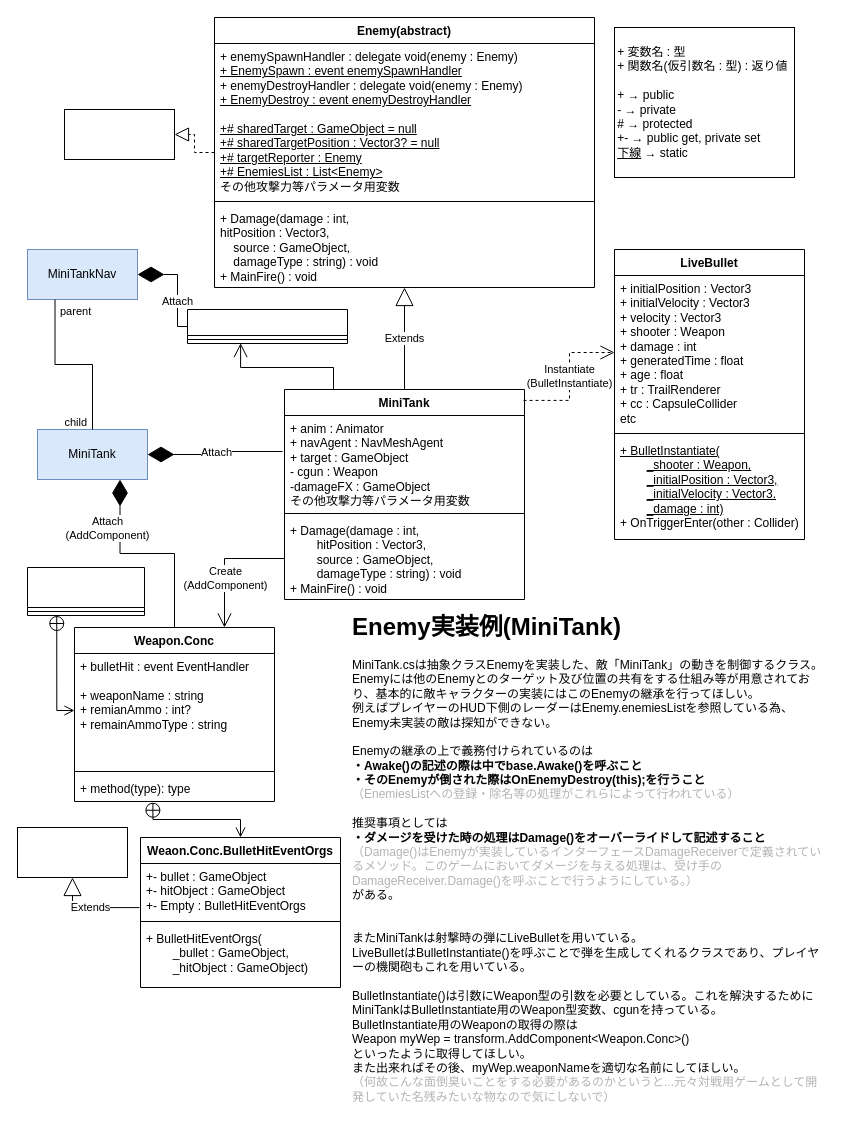
This 845x1135 diagram has some shape labels left out. The shapes that lost their labels are listed below. From the top down, each one's centre as x and y in pixels, then its label:
At pixel 119 134: "«interface» DamageReceiver".
At pixel 267 326: "NavMeshAgent".
At pixel 85 591: "Weapon (abstract)".
At pixel 72 852: "EventOrgs".
